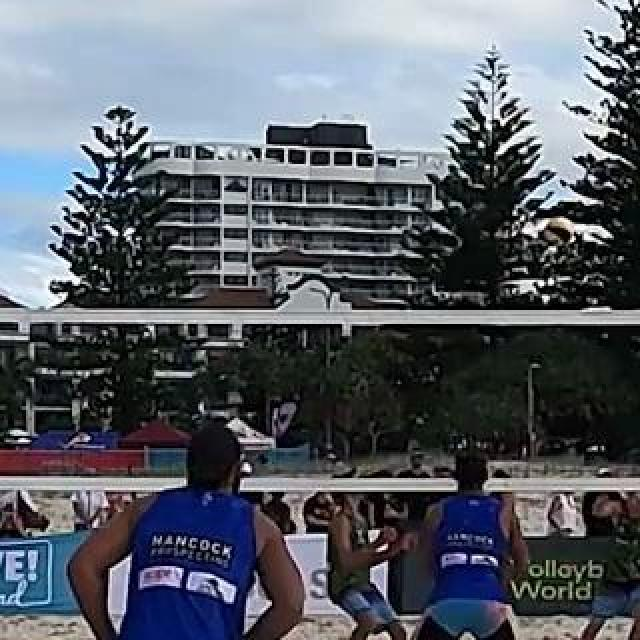volleyball: (540, 218, 572, 246)
